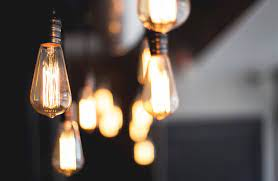bulb: (28, 25, 77, 117), (141, 45, 183, 120), (47, 111, 90, 177)
